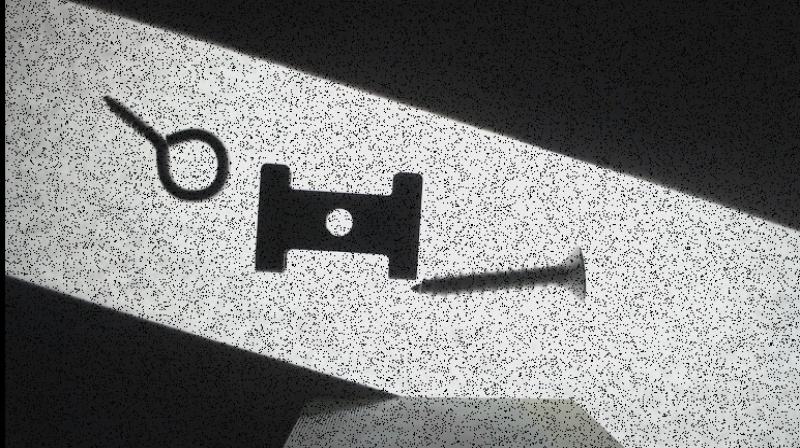O001: (97, 92, 235, 205)
O002: (247, 160, 425, 280)
S001: (406, 242, 590, 303)
